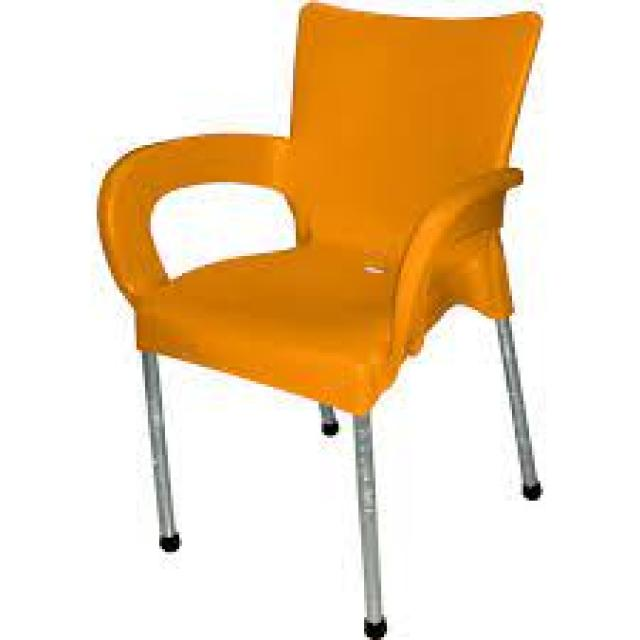chair: (76, 0, 617, 629)
